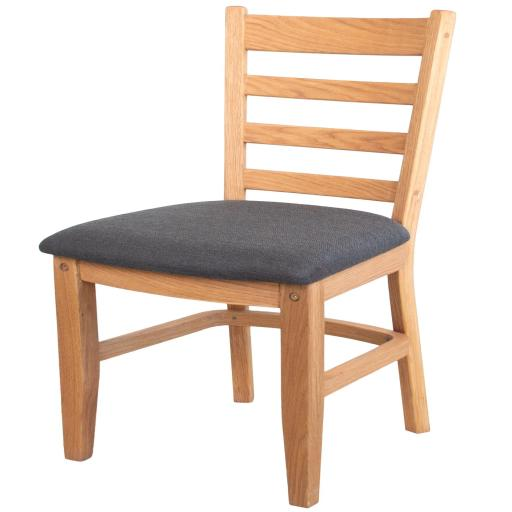chair: (11, 3, 483, 508)
